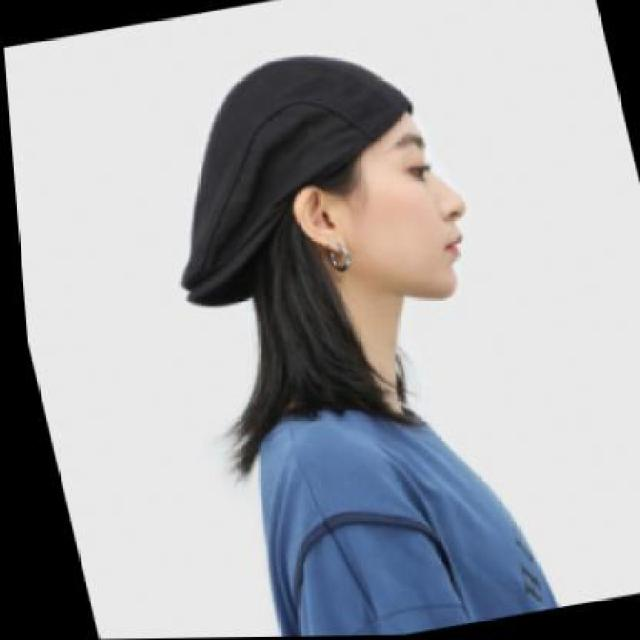hat: (124, 33, 456, 329)
